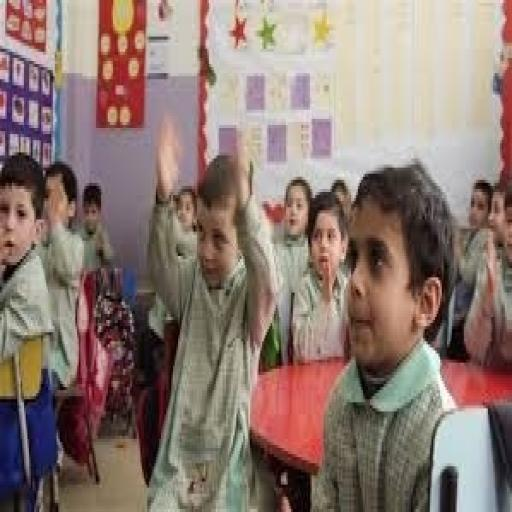clapping: (144, 110, 284, 509)
